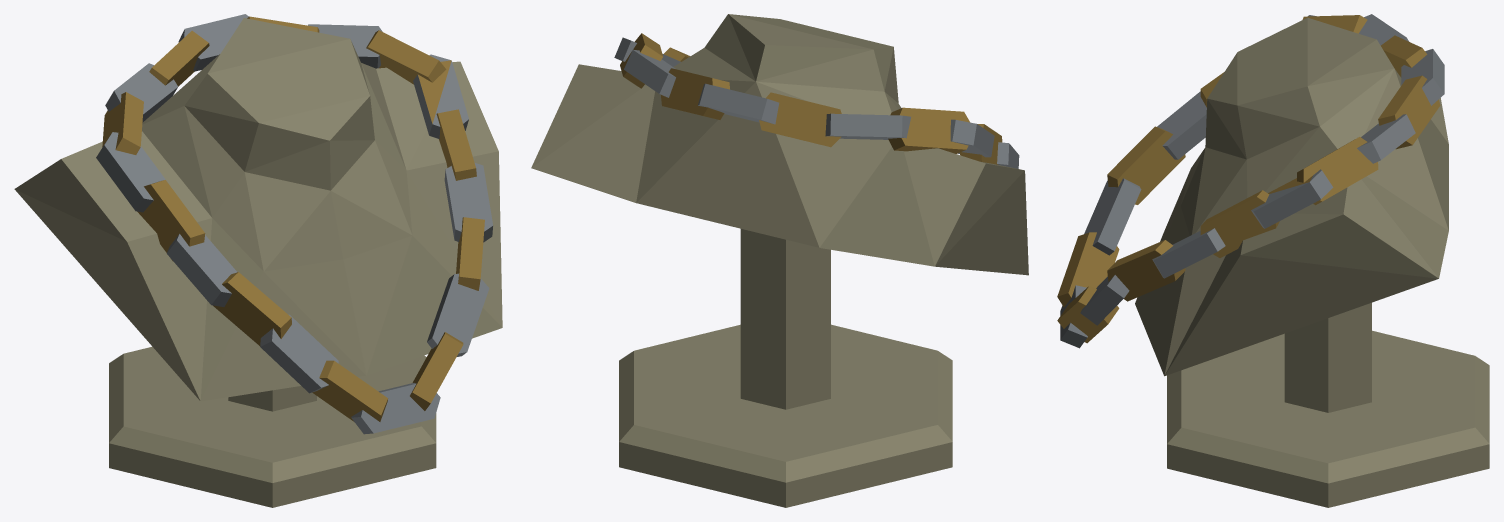
File: WM_ChainNecklace.fbx
3 views of the same model, side by side, from view 1: azimuth 30°, elevation 25°; view 2: azimuth 150°, elevation 25°; view 3: azimuth 270°, elevation 25° (orthographic). The views are drawn at different scales.
Visible parts, largest first — view 1: Symmetry_14; view 2: Symmetry_14; view 3: Symmetry_14.
Part boxes in pixels (x1,y1,x2,y2): Symmetry_14: (14,14,502,507); Symmetry_14: (531,14,1028,507); Symmetry_14: (1057,14,1489,507).
Size of the model in its own units: 4.06 by 3.82 by 3.86.
